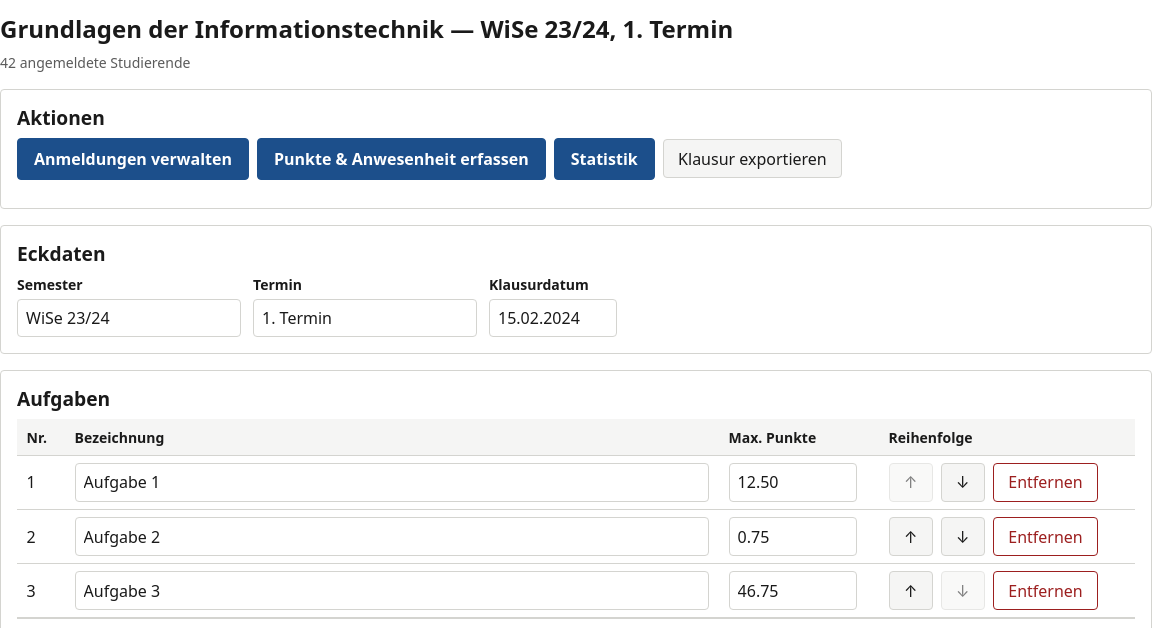
it: ExamDetailPage — grading preview › still shows a total of 0 when every exercise field is blank (Fix 1)
This screenshot has width=1152, height=628.
Step 1. Clear the field named "Maximale Punkte der Aufgabe 1" → [793, 482], box top-left (729, 463), bottom-right (857, 502)
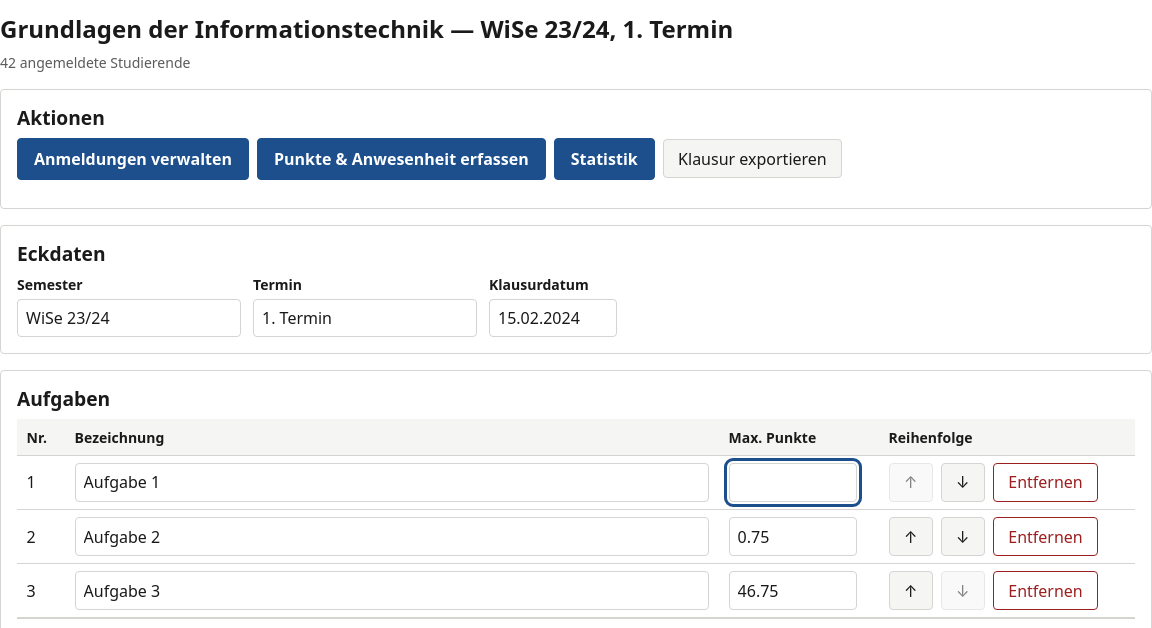
Step 2. Clear the field named "Maximale Punkte der Aufgabe 2" → [793, 536], box top-left (729, 517), bottom-right (857, 556)
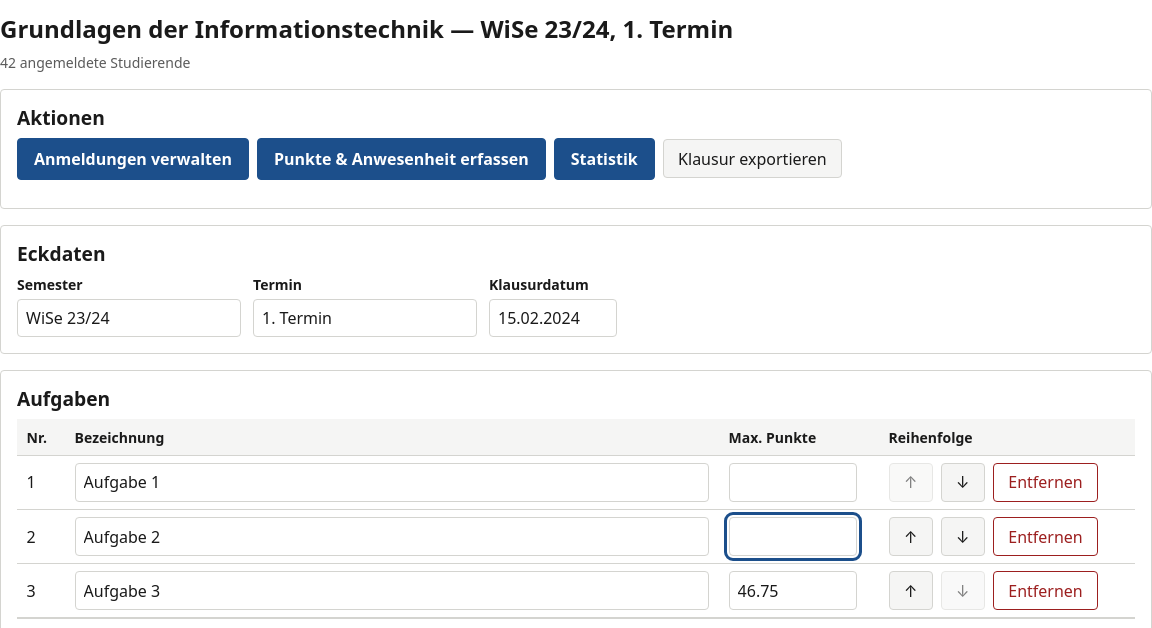
Step 3. Clear the field named "Maximale Punkte der Aufgabe 3" → [793, 591], box top-left (729, 571), bottom-right (857, 610)
(page scrolled)
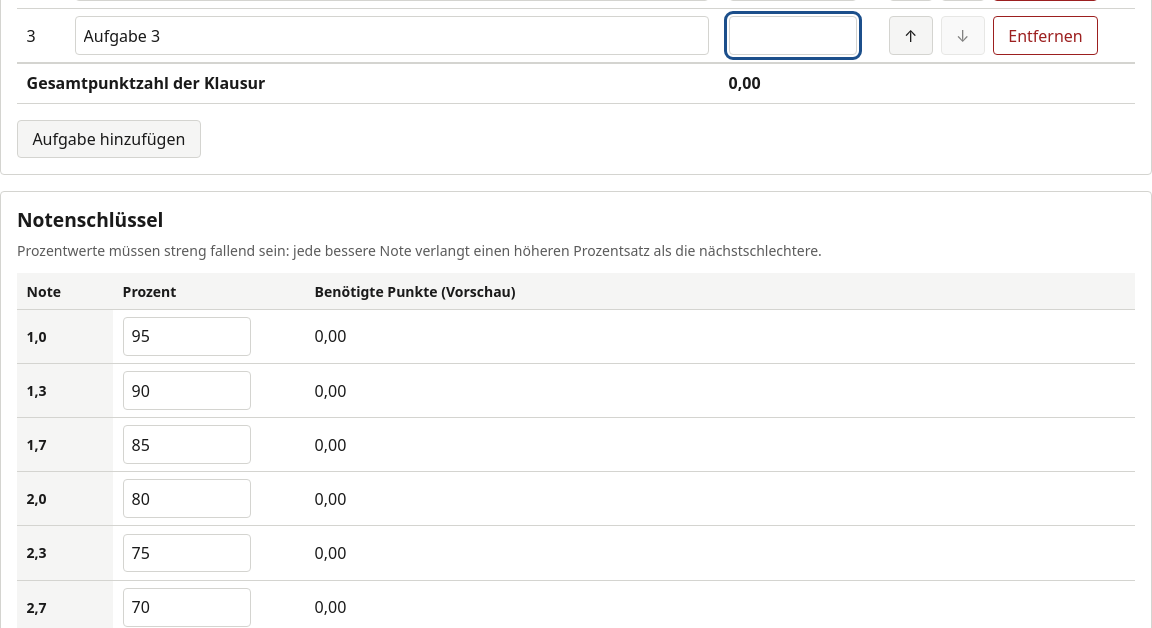
Now the cell with test id "total-max-points" reads "0,00", box top-left (729, 72), bottom-right (761, 94)
Now the cell with test id "threshold-1.0" reads "0,00", box top-left (315, 325), bottom-right (346, 347)
